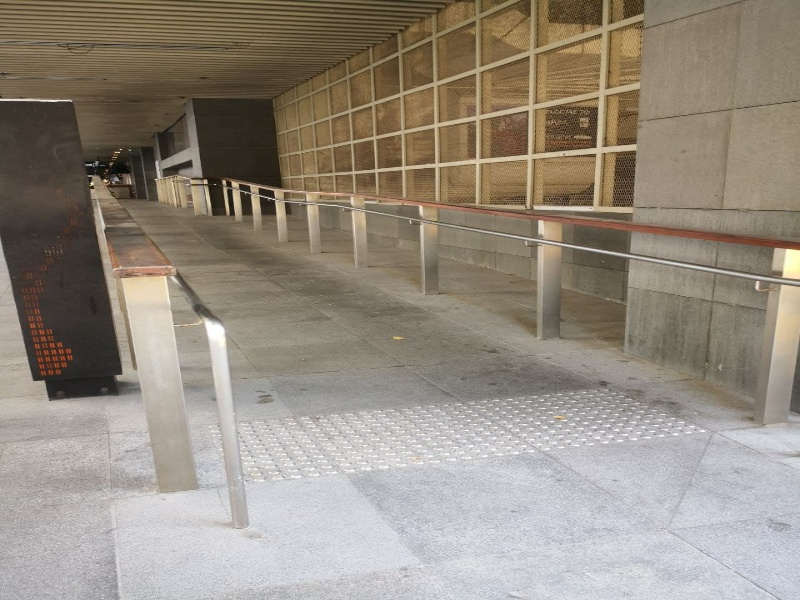slope: (107, 190, 748, 459)
